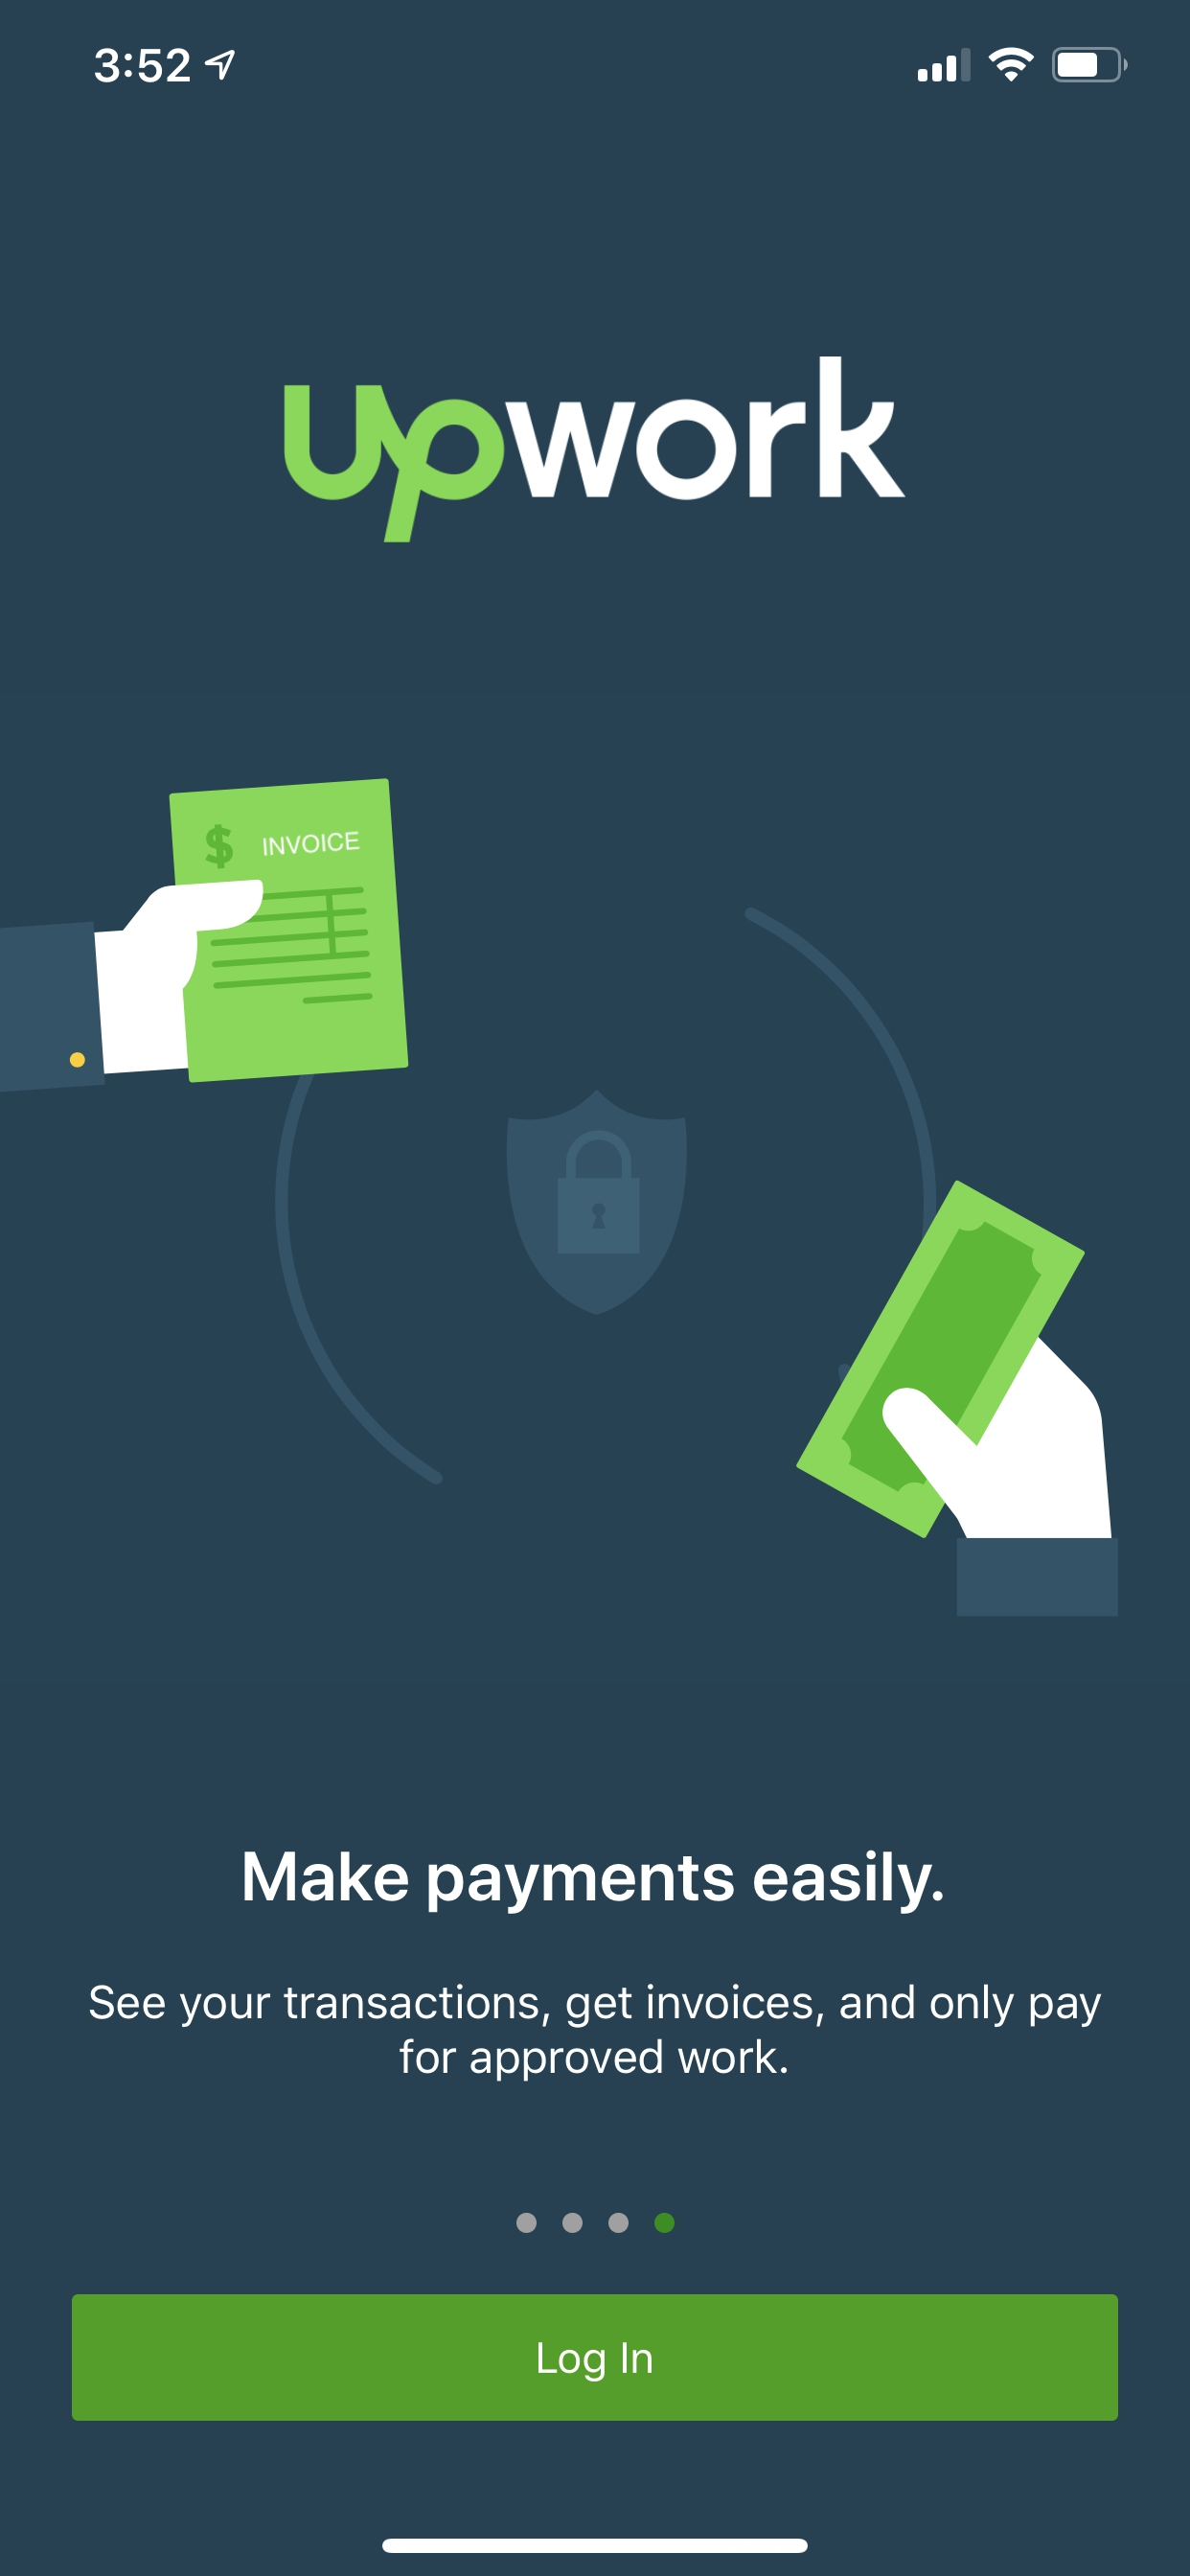Image: (2, 777, 1119, 1617), (284, 356, 906, 544)
PageIndicator: (516, 2211, 674, 2233)
Text: (89, 1985, 1101, 2081), (245, 1850, 943, 1914)
TextButton: (71, 2293, 1119, 2422)
UpperTaskBar: (95, 48, 1128, 84)
